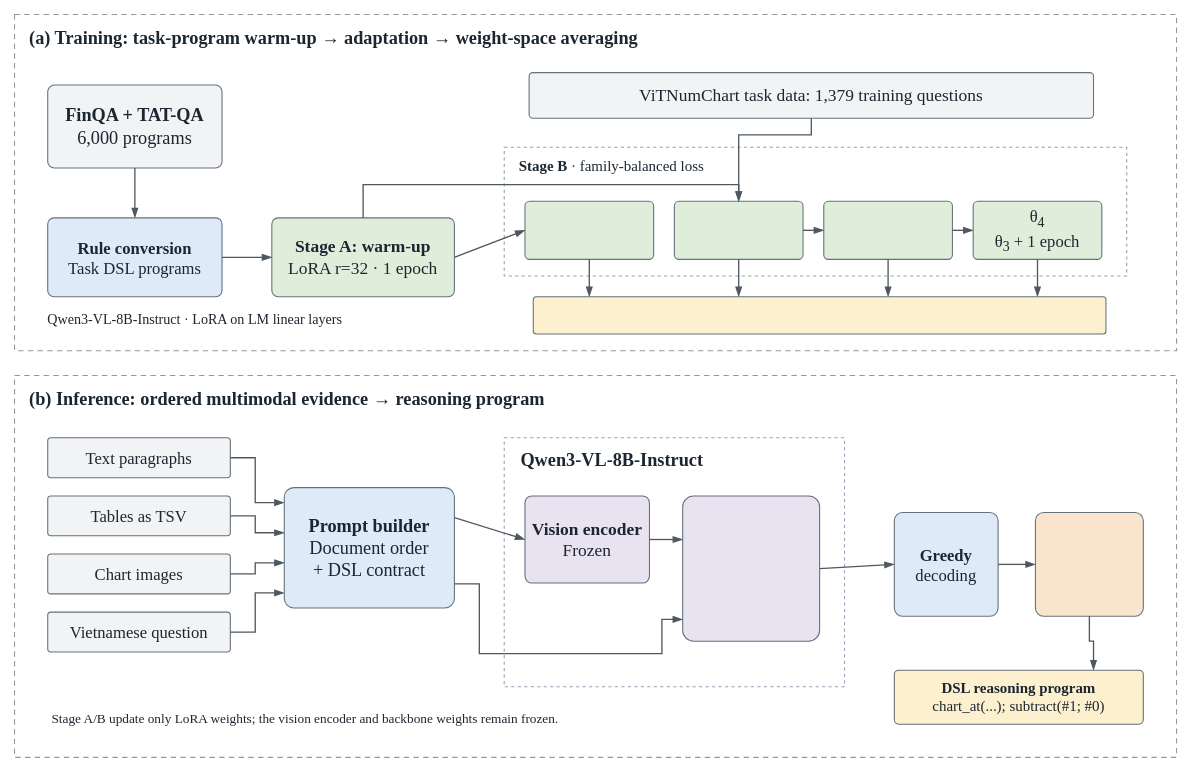
Image size: 1192x773. Some labels were removed from this diagram. Each missing label, with the centre of its shape:
"Adapter weight soup θ = (θ 1 + θ 2 + θ 3 + θ 4 ) / 4" goes at [819,315].
"Fixed post-processing" goes at [1089,564].
"Language model Frozen weights LoRA soup" goes at [751,568].
"θ 1 1 epoch" goes at [589,230].
"θ 2 2 epochs" goes at [738,230].
"θ 3 θ 2 + 1 epoch" goes at [888,230].
